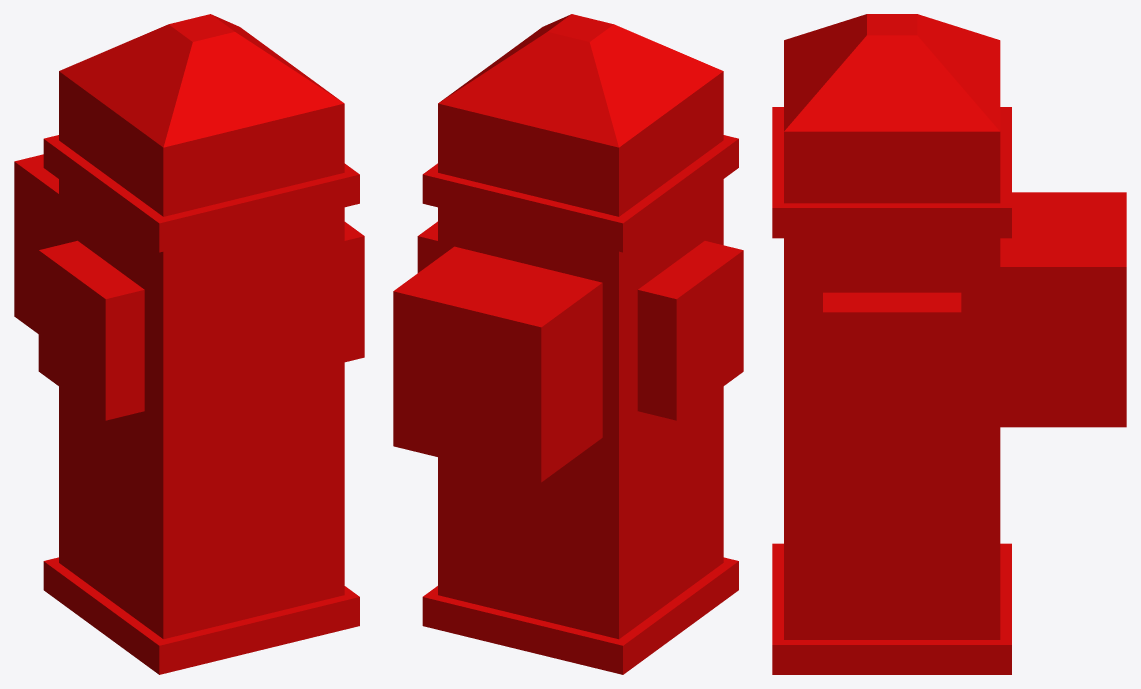
The model's file is hydrant.fbx.
3 views of the same model, side by side, from view 1: azimuth 30°, elevation 25°; view 2: azimuth 150°, elevation 25°; view 3: azimuth 270°, elevation 25° (orthographic). The views are drawn at different scales.
Parts seen in each view (by area): view 1: Cube.005; view 2: Cube.005; view 3: Cube.005.
Part boxes in pixels (x1,y1,x2,y2): Cube.005: (14,14,364,674); Cube.005: (393,14,743,674); Cube.005: (772,14,1126,674).
Size of the model in its own units: 186 by 398 by 213.
